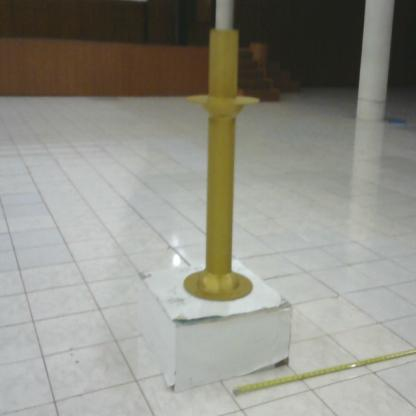pole: (180, 18, 263, 308)
